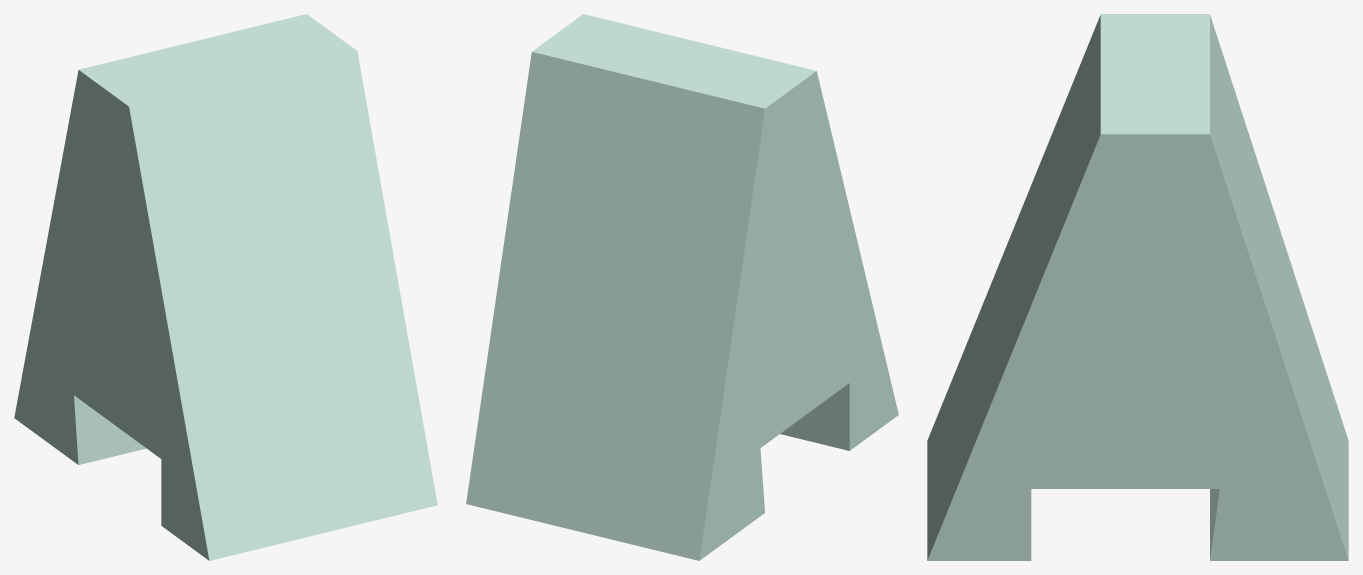
3 views of the same model, side by side, from view 1: azimuth 30°, elevation 25°; view 2: azimuth 150°, elevation 25°; view 3: azimuth 270°, elevation 25° (orthographic). The views are drawn at different scales.
Visible parts, largest first — view 1: Renderer Node; view 2: Renderer Node; view 3: Renderer Node.
Boxes of the visible parts, bbox=[...] form: Renderer Node: bbox=[14, 14, 437, 560]; Renderer Node: bbox=[466, 14, 898, 560]; Renderer Node: bbox=[927, 14, 1348, 560].
Bounding box in the file's own units: 0.4531 × 0.75 × 0.6711.
